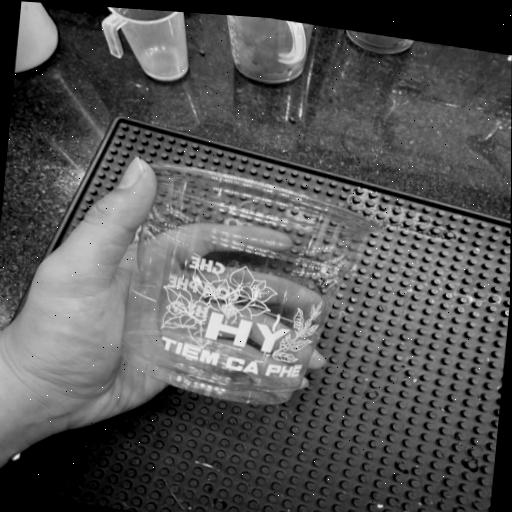ly_nhua: (123, 164, 374, 404)
